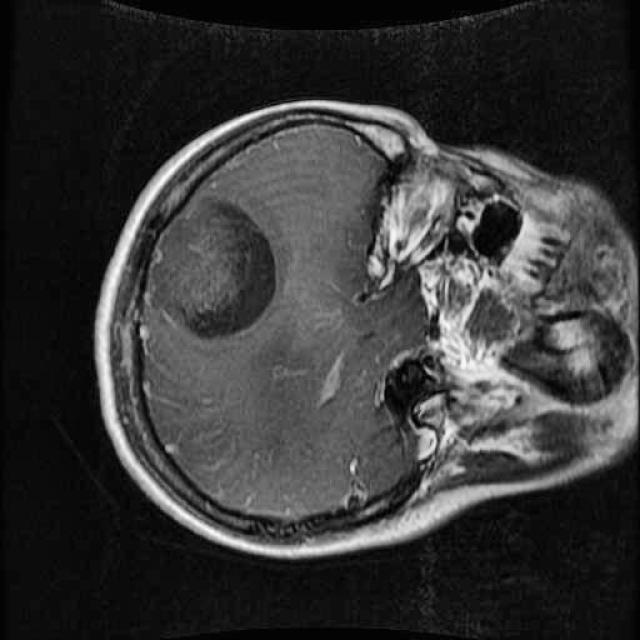Tumor: (133, 172, 295, 358)
